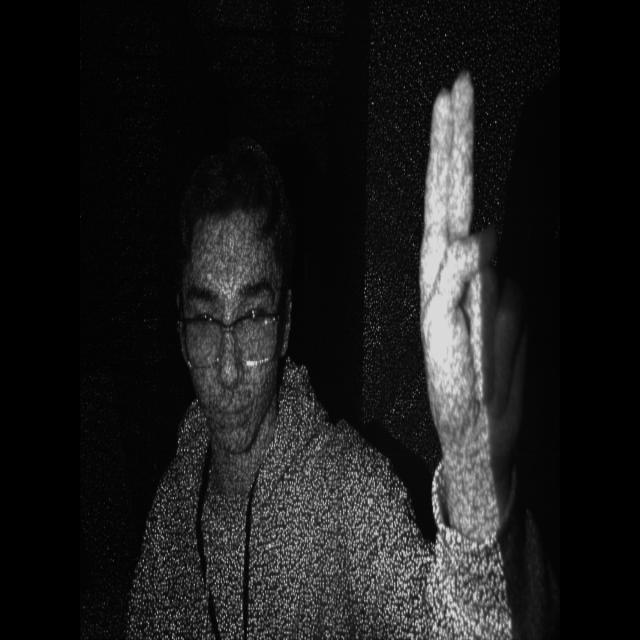U: (410, 58, 539, 506)
